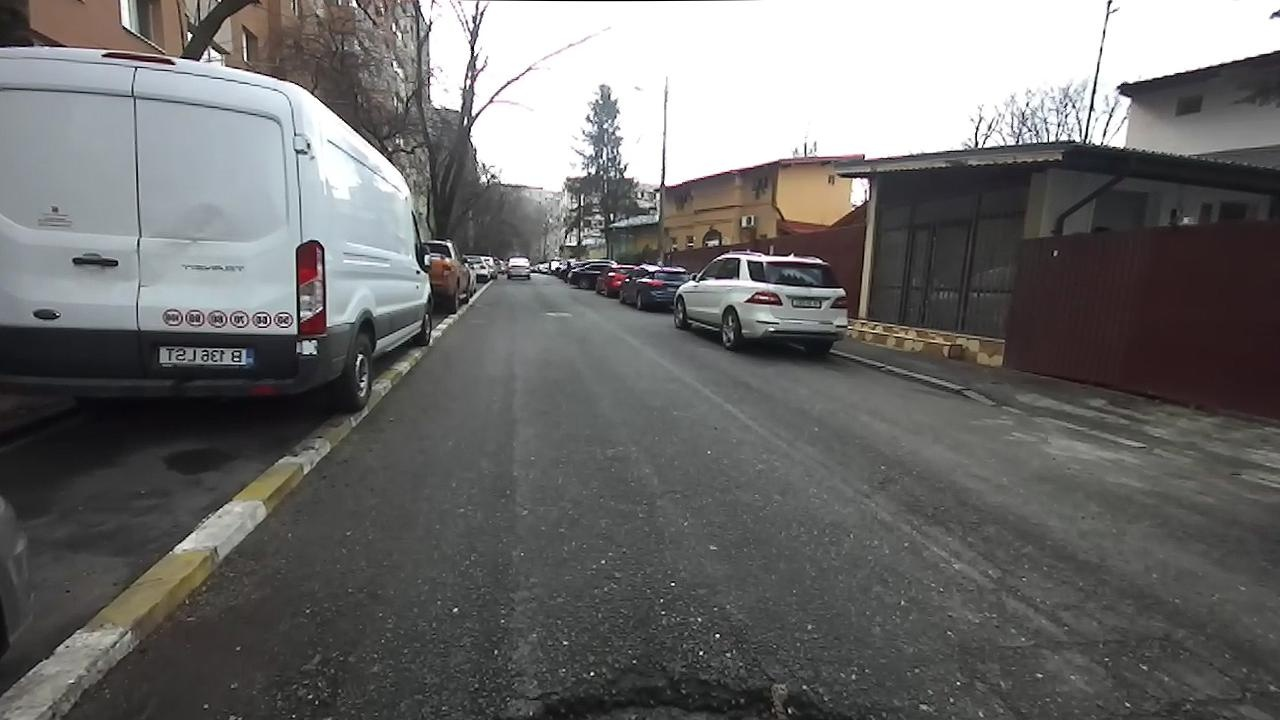pothole: (498, 667, 883, 718)
